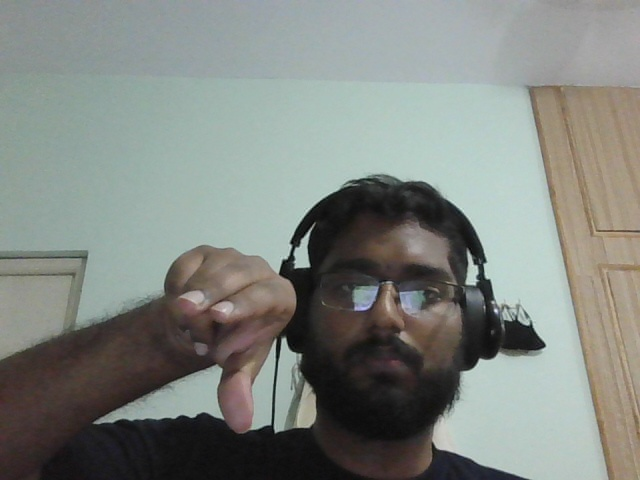No: (149, 227, 302, 446)
